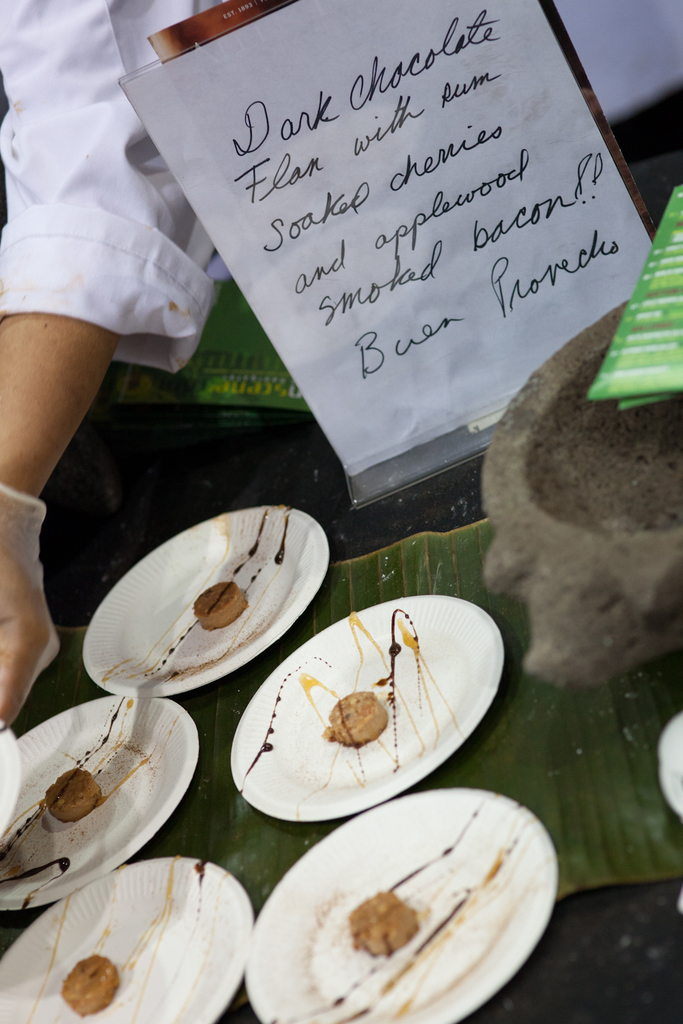plate: (81, 496, 335, 687)
